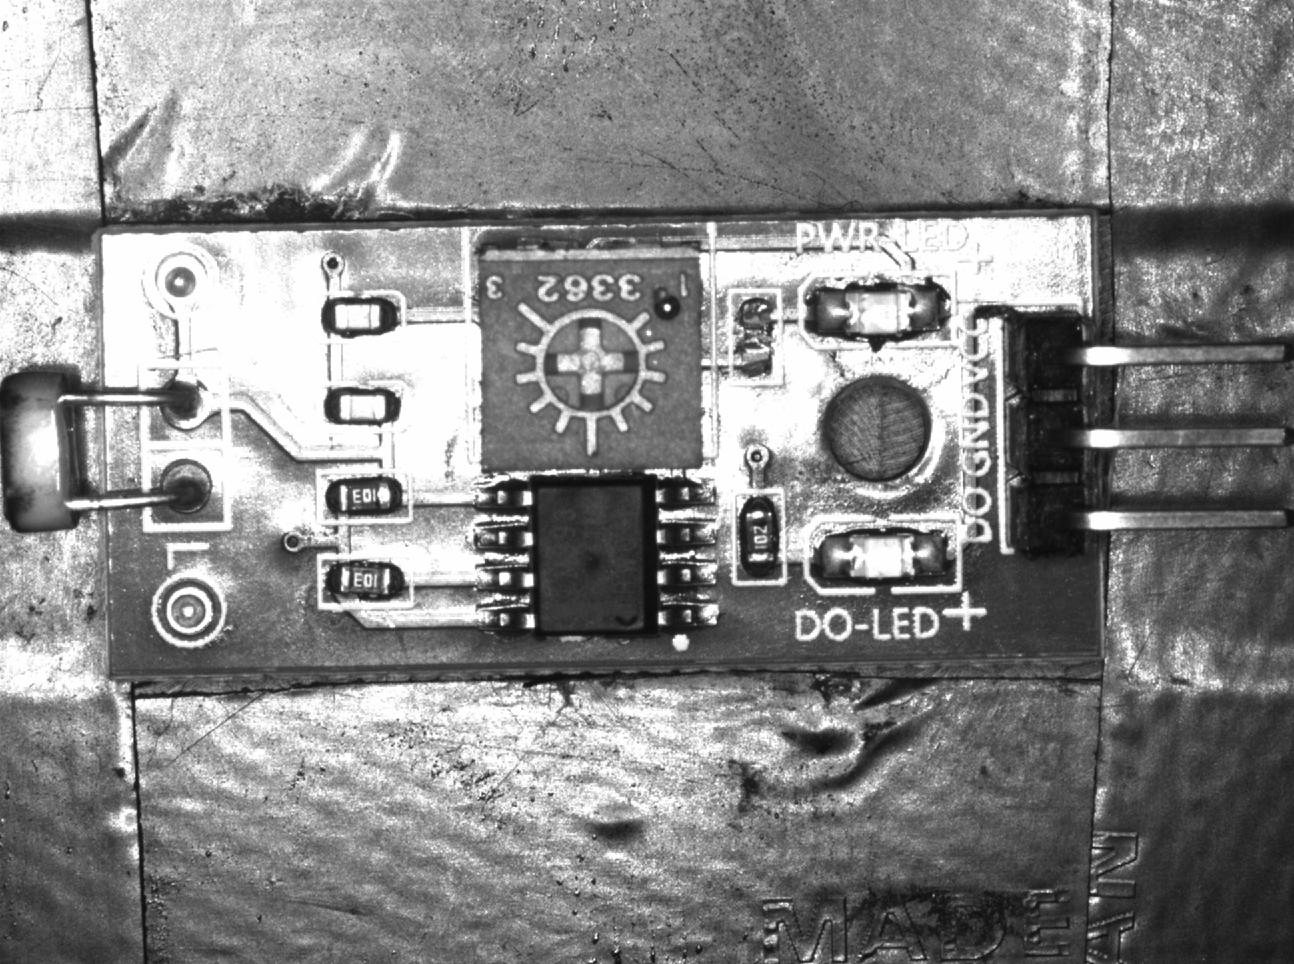miss: (728, 285, 783, 389)
ok: (314, 468, 413, 524), (730, 491, 788, 586), (321, 555, 411, 611), (310, 289, 405, 341), (314, 381, 408, 431)
